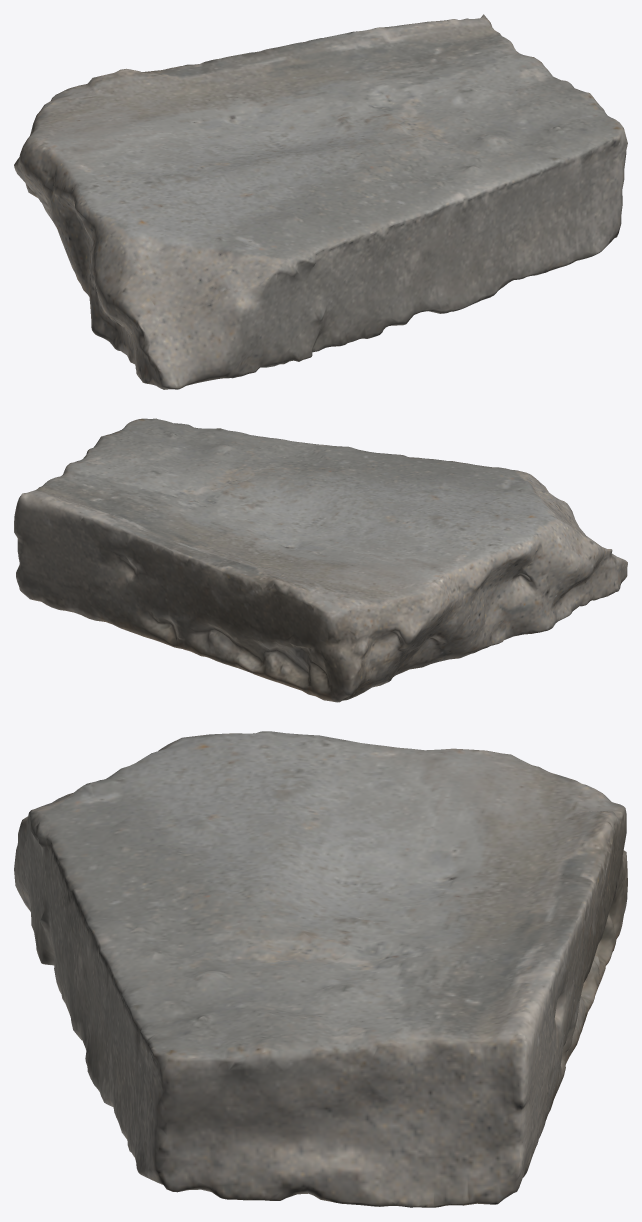
Rendered from Rock4.fbx.
The picture shows the model from 3 angles, top to bottom: view 1: azimuth 30°, elevation 25°; view 2: azimuth 150°, elevation 25°; view 3: azimuth 270°, elevation 25°; orthographic projection. The views are drawn at different scales.
Parts seen in each view (by area): view 1: Aset_debris_construction_S_tmkhdecva_03_LOD0; view 2: Aset_debris_construction_S_tmkhdecva_03_LOD0; view 3: Aset_debris_construction_S_tmkhdecva_03_LOD0.
Boxes of the visible parts, x1,y1,x2,y2 form: Aset_debris_construction_S_tmkhdecva_03_LOD0: (14, 14, 627, 389); Aset_debris_construction_S_tmkhdecva_03_LOD0: (14, 418, 627, 702); Aset_debris_construction_S_tmkhdecva_03_LOD0: (14, 731, 627, 1207).
Size of the model in its own units: 30.2 by 7.11 by 23.3.
